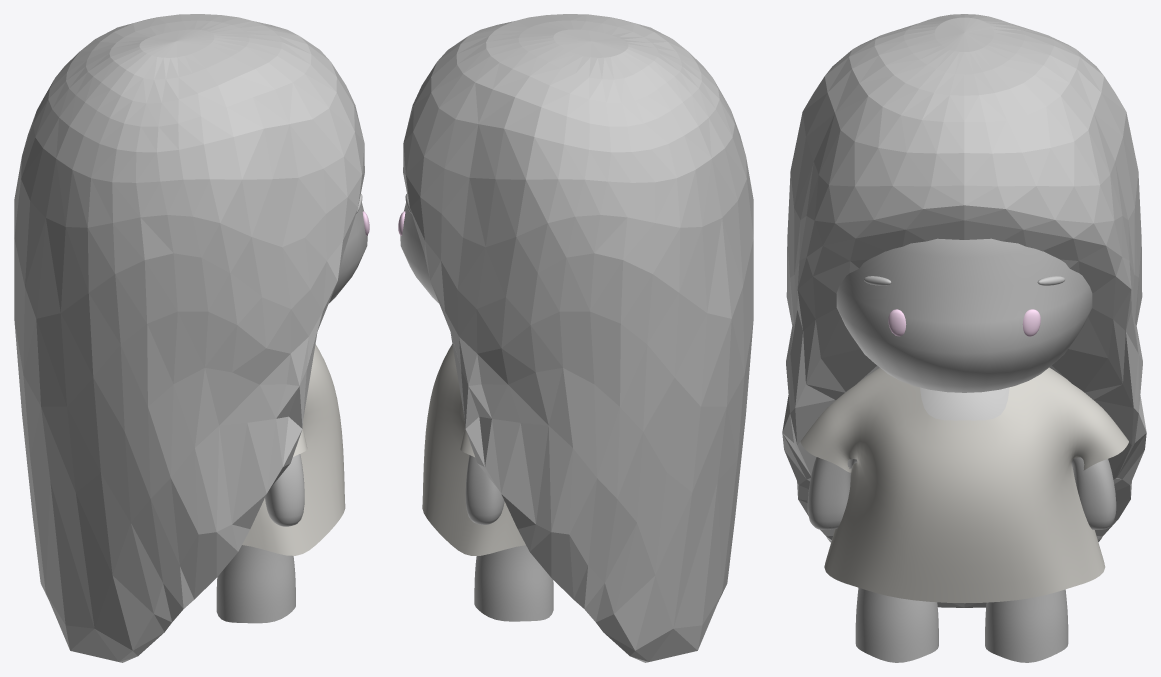
The model's file is doll.dae.
The picture shows the model from 3 angles, left to right: view 1: azimuth 30°, elevation 25°; view 2: azimuth 150°, elevation 25°; view 3: azimuth 270°, elevation 25°; orthographic projection. The views are drawn at different scales.
Parts seen in each view (by area): view 1: Sphere.003, Cube.014, Cube.003, Sphere.004; view 2: Sphere.003, Cube.014, Cube.003, Sphere.004; view 3: Sphere.003, Cube.014, Sphere.004, Cube.003.
Part boxes in pixels (box(x1,y1,x2,y2)): Sphere.003: box(14, 14, 364, 662); Cube.014: box(242, 344, 345, 555); Cube.003: box(216, 454, 304, 623); Sphere.004: box(329, 203, 367, 303); Sphere.003: box(403, 14, 753, 662); Cube.014: box(422, 344, 525, 555); Cube.003: box(465, 455, 553, 621); Sphere.004: box(400, 203, 438, 303); Sphere.003: box(782, 14, 1146, 607); Cube.014: box(800, 367, 1128, 603); Sphere.004: box(836, 238, 1092, 392); Cube.003: box(807, 387, 1116, 662).
Size of the model in its own units: 0.3147 by 0.2961 by 0.5537.
